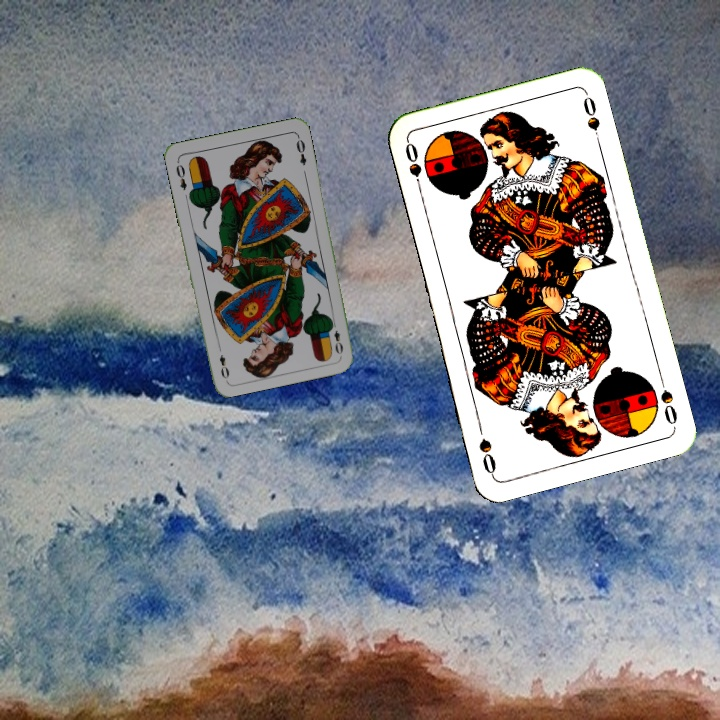EO: (327, 317, 346, 356), (172, 157, 189, 193)
SO: (655, 371, 680, 429), (401, 138, 425, 196)
